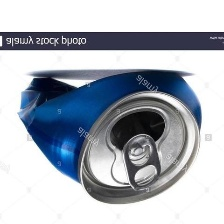can: (9, 56, 211, 211)
